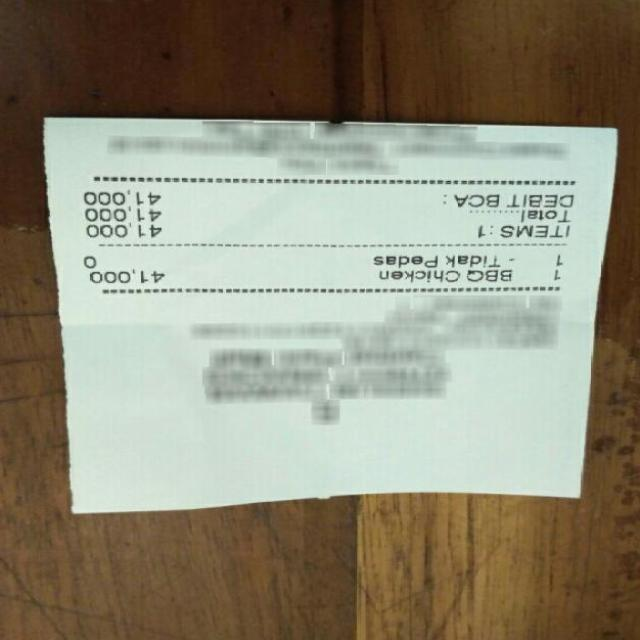kertas: (37, 118, 617, 522)
